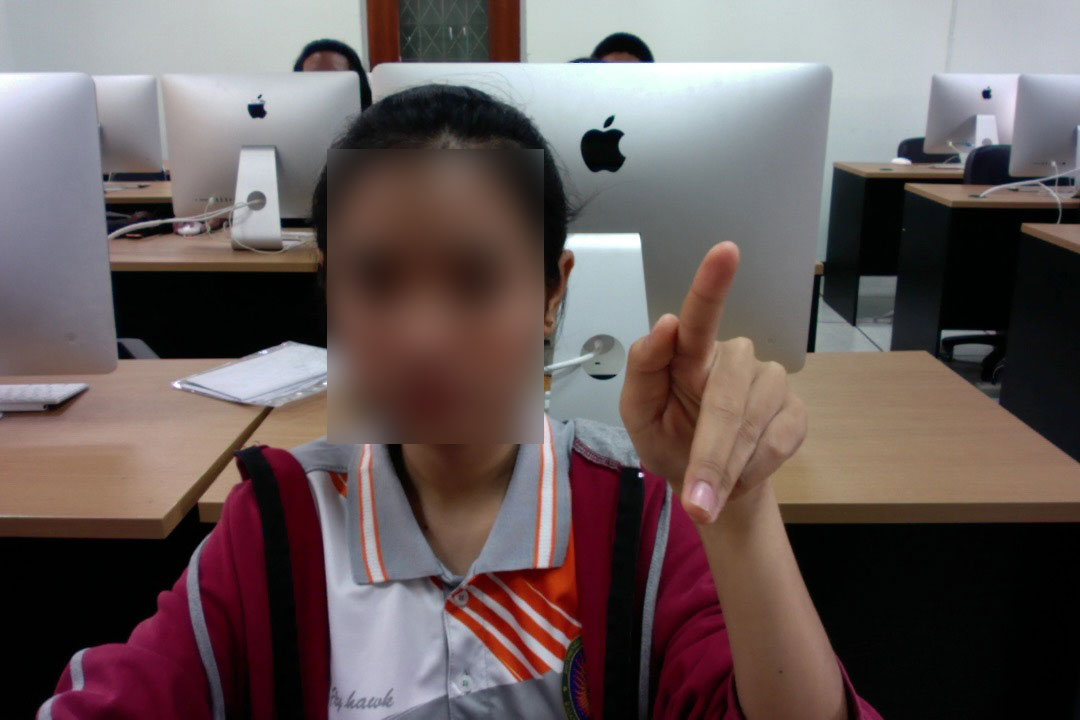por: (619, 223, 813, 530)
